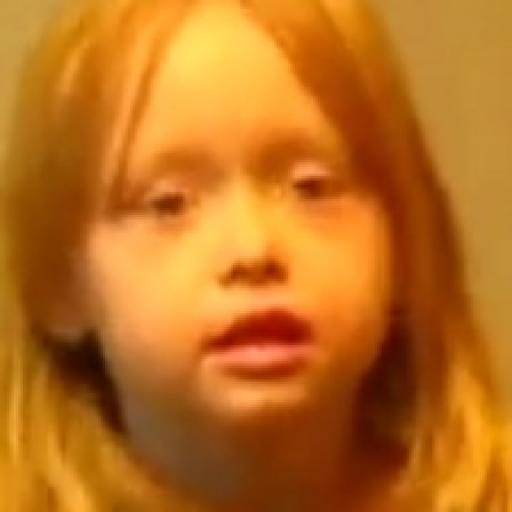Autism: (44, 0, 450, 498)
